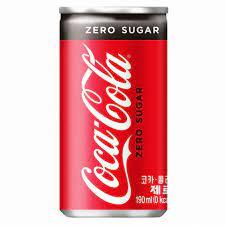cocacola_zero: (54, 3, 170, 220)
